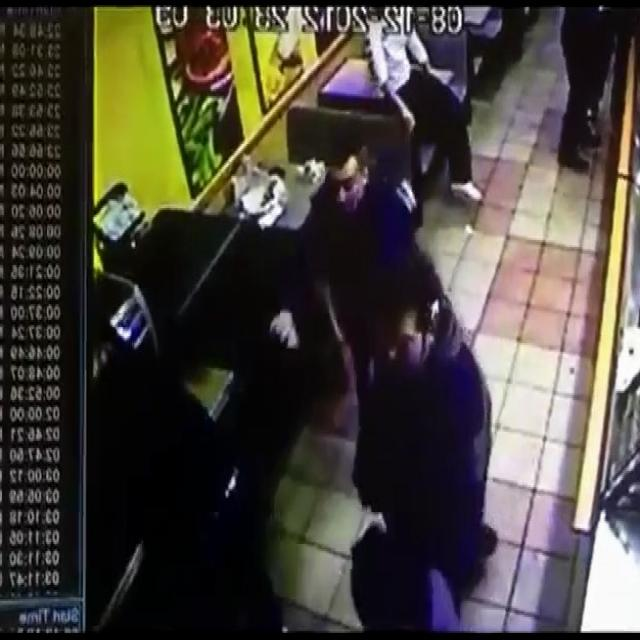fight: (298, 146, 465, 420)
